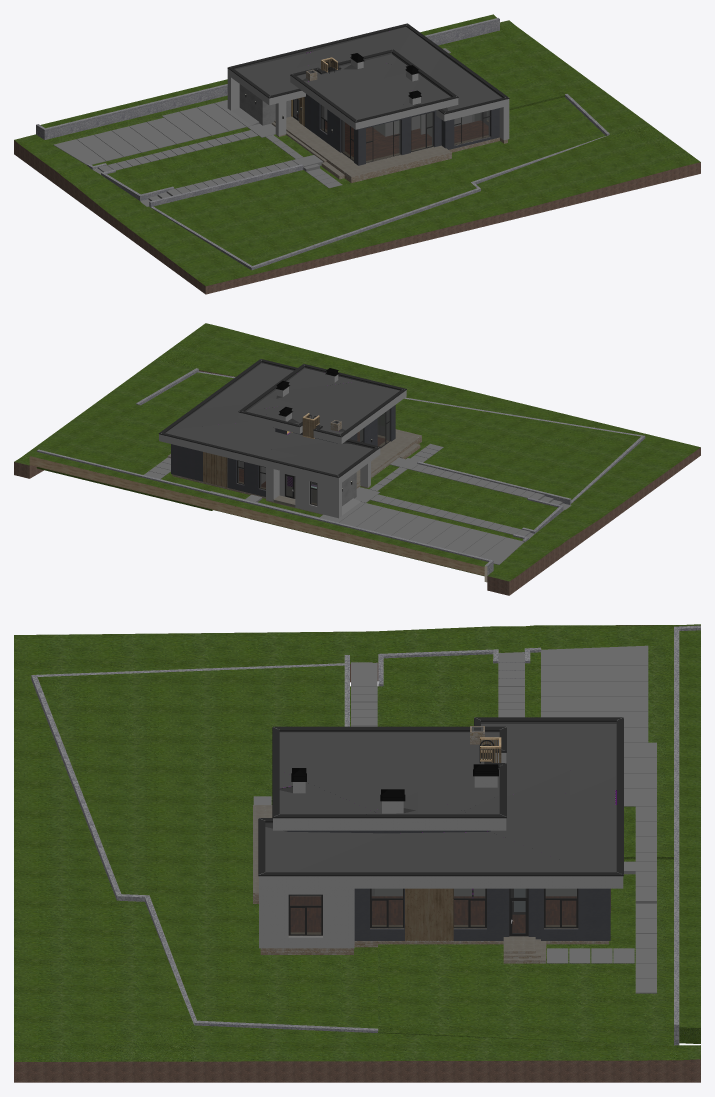
3 views of the same model, one above another, from view 1: azimuth 30°, elevation 25°; view 2: azimuth 150°, elevation 25°; view 3: azimuth 270°, elevation 25° (orthographic). The views are drawn at different scales.
Parts seen in each view (by area): view 1: object 5, GDLM78_builtInMatIlluminatio_GDLM78_builtInMatIlluminatio_0, object 22, object 6, object 26, object 17, object 25, object 15, object 7, object 23, object 24, object 19; view 2: object 5, GDLM78_builtInMatIlluminatio_GDLM78_builtInMatIlluminatio_0, object 26, object 8, object 22, object 6, object 25, object 15, object 17, object 18, object 23; view 3: object 5, GDLM78_builtInMatIlluminatio_GDLM78_builtInMatIlluminatio_0, object 6, object 26, object 22, object 25, object 17, object 7, object 18, object 23, object 15.
Part boxes in pixels (box(x1,y1,x2,y2)): object 5: box(14, 14, 700, 286); GDLM78_builtInMatIlluminatio_GDLM78_builtInMatIlluminatio_0: box(53, 23, 509, 206); object 22: box(36, 18, 609, 270); object 6: box(14, 140, 700, 294); object 26: box(227, 58, 509, 151); object 17: box(293, 98, 489, 162); object 25: box(305, 94, 499, 165); object 15: box(272, 116, 451, 176); object 7: box(325, 121, 487, 160); object 23: box(271, 69, 507, 182); object 24: box(239, 84, 290, 125); object 19: box(325, 108, 471, 136); object 5: box(14, 323, 700, 581); GDLM78_builtInMatIlluminatio_GDLM78_builtInMatIlluminatio_0: box(144, 359, 571, 564); object 26: box(159, 374, 406, 518); object 8: box(29, 413, 484, 575); object 22: box(37, 368, 645, 575); object 6: box(14, 370, 700, 595); object 25: box(171, 405, 395, 496); object 15: box(168, 429, 421, 506); object 17: box(237, 409, 389, 504); object 18: box(203, 414, 319, 487); object 23: box(167, 420, 421, 514); object 5: box(14, 624, 700, 1061); GDLM78_builtInMatIlluminatio_GDLM78_builtInMatIlluminatio_0: box(253, 645, 656, 993); object 6: box(14, 625, 700, 1082); object 26: box(259, 753, 623, 948); object 22: box(31, 625, 700, 1045); object 25: box(287, 830, 610, 940); object 17: box(290, 888, 576, 934); object 7: box(290, 897, 576, 932); object 18: box(405, 740, 610, 940); object 23: box(253, 726, 608, 963); object 15: box(253, 805, 546, 960).
Bounding box in the file's own units: 57.8 × 8.4 × 38.76.
Materials: 27 (27 with a texture image).
